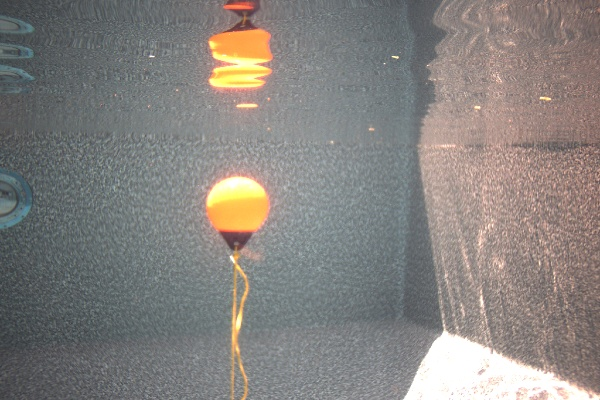buoy: (205, 176, 271, 253)
